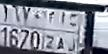0: (30, 10, 40, 50)
1: (1, 3, 7, 47)
6: (9, 4, 19, 50)
7: (21, 5, 29, 51)
A: (56, 12, 66, 52)
J: (68, 13, 77, 53)
Z: (46, 12, 54, 51)
